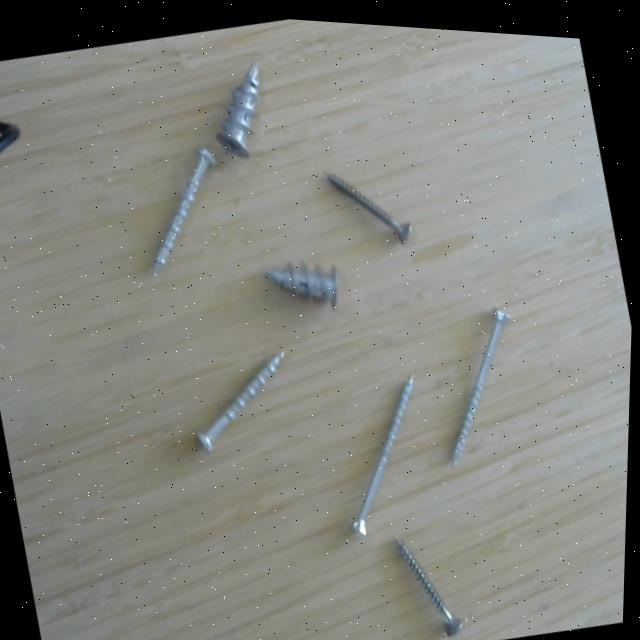Black screw: (319, 154, 421, 249), (391, 520, 472, 639)
Long screw: (347, 361, 424, 536), (445, 292, 518, 468)
Medium screw: (142, 133, 230, 284), (190, 335, 296, 459)
Short screw: (207, 46, 267, 164), (260, 250, 345, 318)
